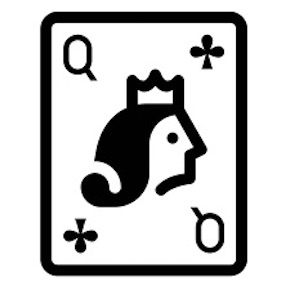QueenOfClubs: (40, 10, 250, 281)
